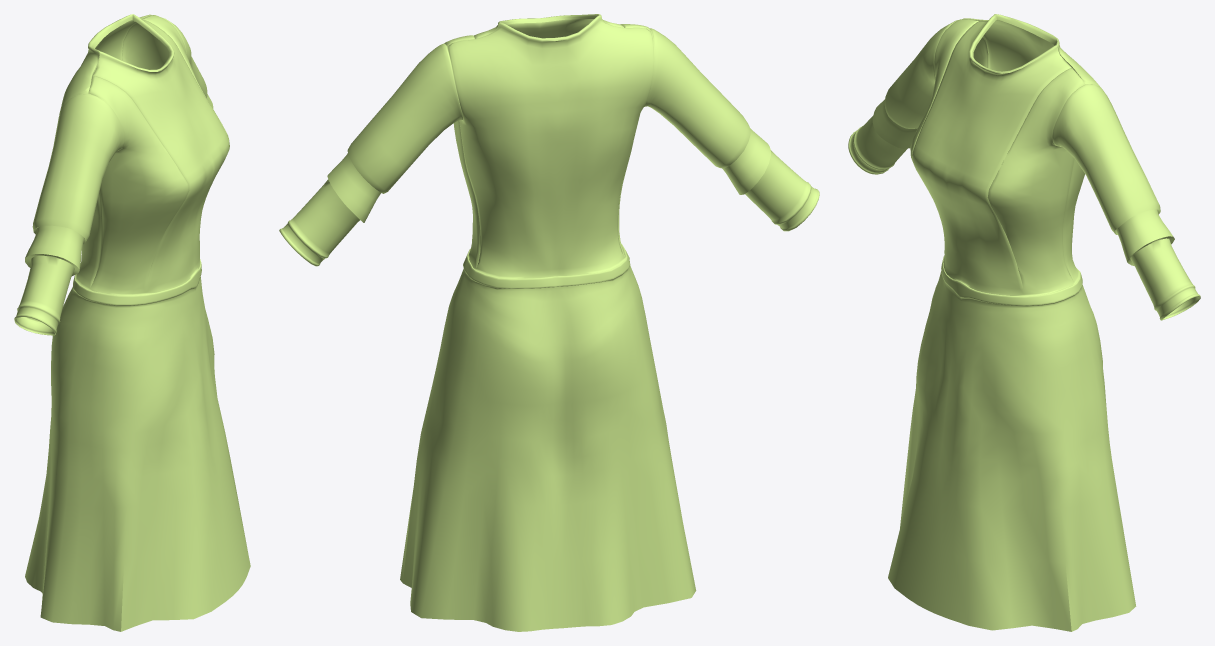
File: dress 2.fbx
The picture shows the model from 3 angles, left to right: view 1: azimuth 30°, elevation 25°; view 2: azimuth 150°, elevation 25°; view 3: azimuth 270°, elevation 25°; orthographic projection. The views are drawn at different scales.
Visible parts, largest first — view 1: Plane001; view 2: Plane001; view 3: Plane001.
Boxes of the visible parts, bbox=[...] form: Plane001: bbox=[14, 14, 250, 631]; Plane001: bbox=[279, 14, 819, 631]; Plane001: bbox=[848, 14, 1200, 631].
Size of the model in its own units: 583 by 854 by 501.
